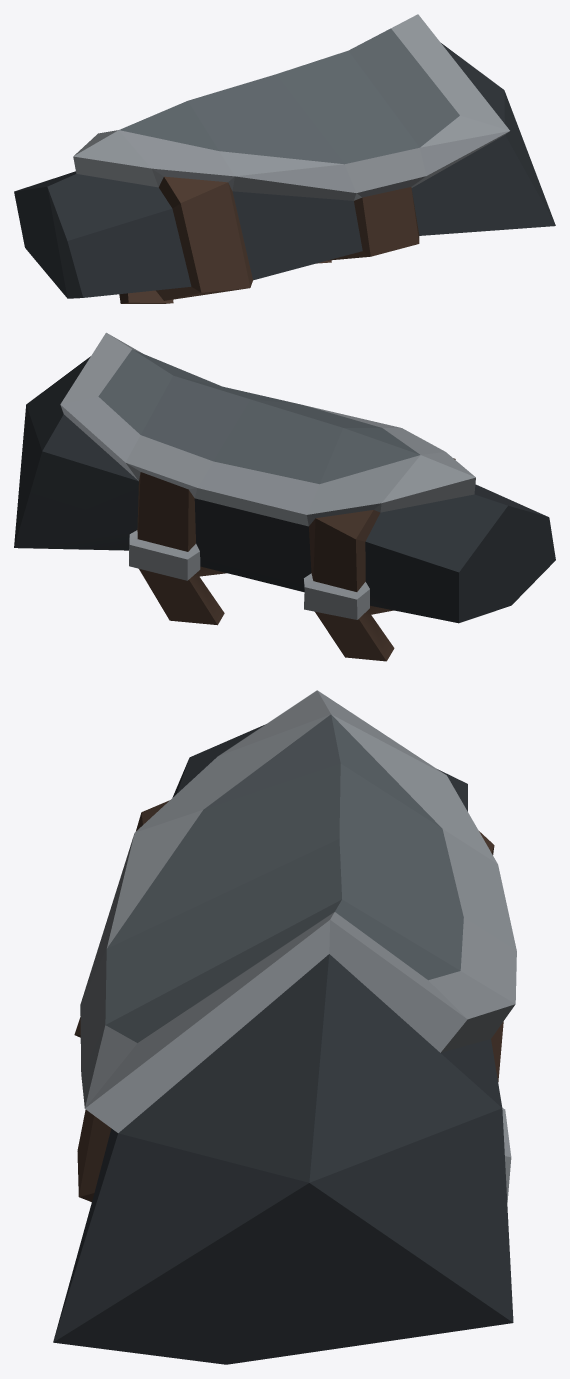
The model's file is Chr_ArmUpperRight_Male_13_Static.fbx.
The picture shows the model from 3 angles, top to bottom: view 1: azimuth 30°, elevation 25°; view 2: azimuth 150°, elevation 25°; view 3: azimuth 270°, elevation 25°; orthographic projection. The views are drawn at different scales.
Visible parts, largest first — view 1: Chr_ArmUpperRight_Male_13_Static; view 2: Chr_ArmUpperRight_Male_13_Static; view 3: Chr_ArmUpperRight_Male_13_Static.
Part boxes in pixels (x1,y1,x2,y2): Chr_ArmUpperRight_Male_13_Static: (14, 14, 555, 303); Chr_ArmUpperRight_Male_13_Static: (14, 332, 555, 661); Chr_ArmUpperRight_Male_13_Static: (53, 690, 516, 1364).
Bounding box in the file's own units: 0.3345 × 0.1658 × 0.1439.
